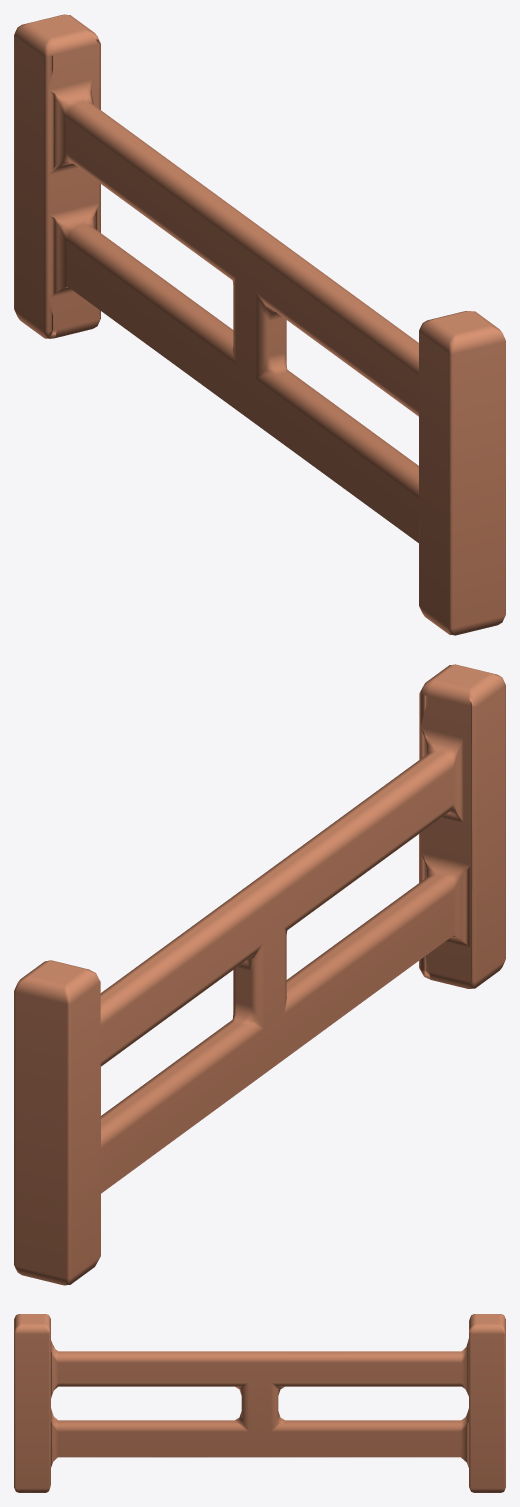
The model's file is fence.glb.
3 views of the same model, one above another, from view 1: azimuth 30°, elevation 25°; view 2: azimuth 150°, elevation 25°; view 3: azimuth 270°, elevation 25° (orthographic). The views are drawn at different scales.
Parts seen in each view (by area): view 1: fence; view 2: fence; view 3: fence.
Boxes of the visible parts, <box> form: fence: <box>14,14,505,635</box>; fence: <box>14,664,505,1285</box>; fence: <box>14,1314,505,1492</box>.
Bounding box in the file's own units: 0.075 × 0.38 × 1.
1 material, 1 textured.
